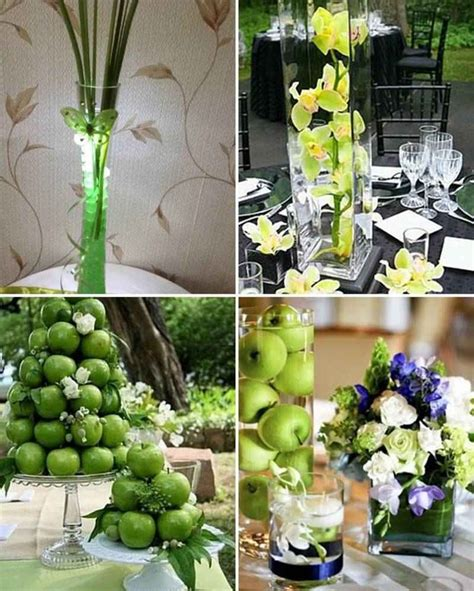apple: (256, 401, 320, 459), (234, 328, 288, 383), (127, 439, 165, 482), (153, 469, 193, 508)
